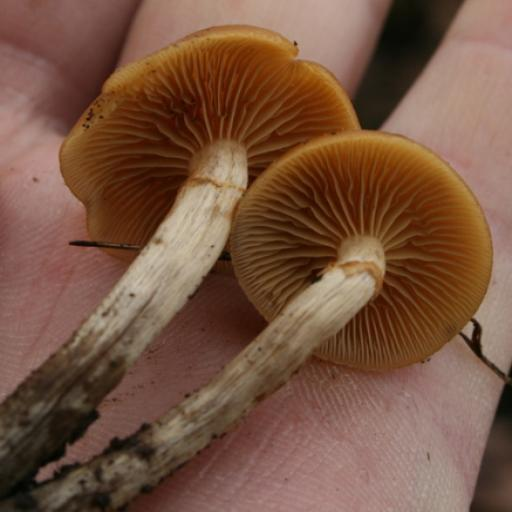mushroom: (40, 14, 496, 425)
